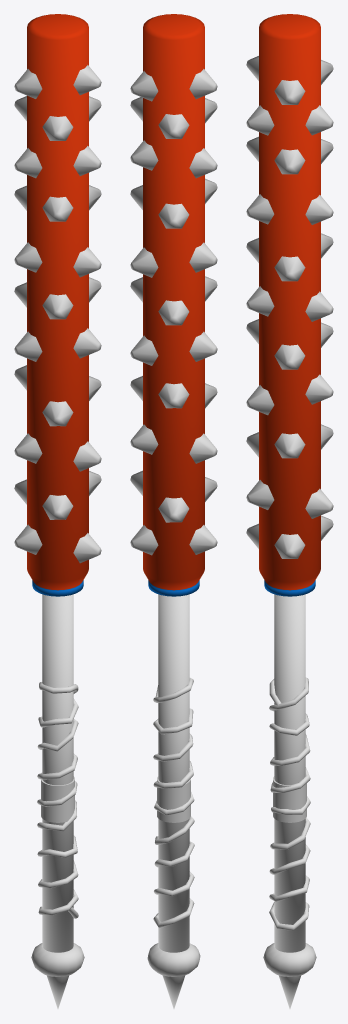
File: Kanabo.dae
3 views of the same model, side by side, from view 1: azimuth 90°, elevation 25°; view 2: azimuth 210°, elevation 25°; view 3: azimuth 270°, elevation 25° (orthographic).
Visible parts, largest first — view 1: Head_low, DWAAH_low, Handle_top_low, Rope_low, Handle_middle_2_low, Handle_middle_1_low, Handle_bottom_low; view 2: Head_low, DWAAH_low, Handle_top_low, Rope_low, Handle_middle_2_low, Handle_middle_1_low, Handle_bottom_low; view 3: Head_low, DWAAH_low, Handle_top_low, Rope_low, Handle_middle_2_low, Handle_middle_1_low, Handle_bottom_low.
Boxes of the visible parts, x1,y1,x2,y2 form: Head_low: (27,14,88,596); DWAAH_low: (14,65,101,563); Handle_top_low: (42,594,73,952); Rope_low: (37,682,78,918); Handle_middle_2_low: (31,943,84,976); Handle_middle_1_low: (41,780,74,822); Handle_bottom_low: (46,975,69,1008); Head_low: (143,14,204,596); DWAAH_low: (130,69,217,555); Handle_top_low: (158,594,189,952); Rope_low: (153,678,194,928); Handle_middle_2_low: (147,943,200,976); Handle_middle_1_low: (157,780,190,822); Handle_bottom_low: (162,975,185,1008); Head_low: (259,14,320,596); DWAAH_low: (246,56,333,558); Handle_top_low: (274,594,305,952); Rope_low: (269,677,310,930); Handle_middle_2_low: (263,943,316,976); Handle_middle_1_low: (273,780,306,822); Handle_bottom_low: (278,975,301,1008).
Size of the model in its own units: 0.177 by 2 by 0.1605.
